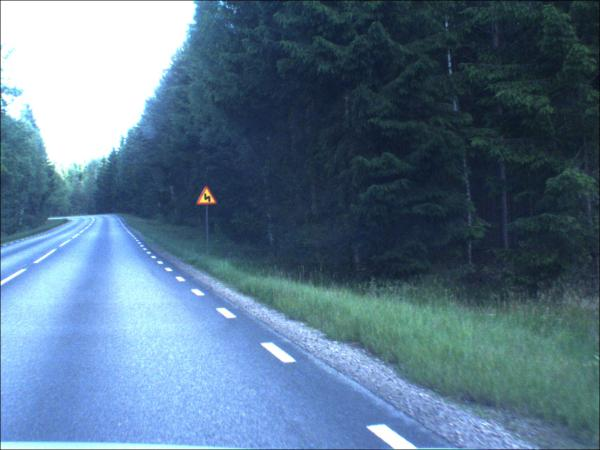WARNING: (198, 187, 218, 207)
